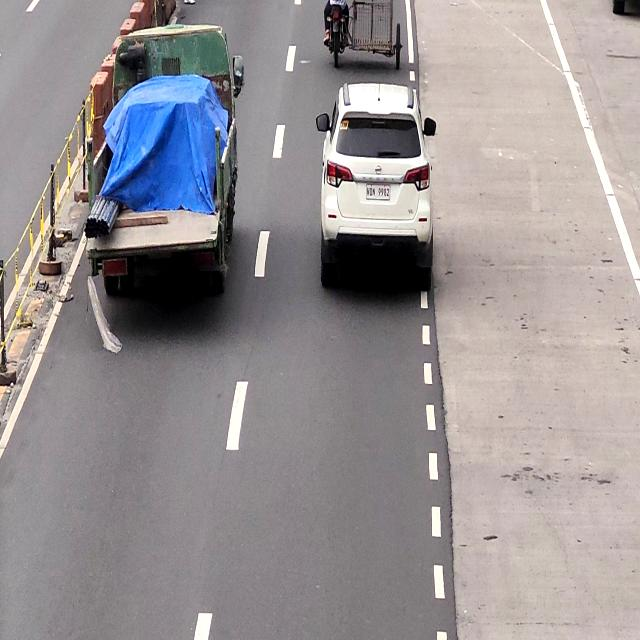Car: (320, 81, 431, 275)
License-Plate: (365, 182, 391, 198)
Tricycle: (328, 0, 404, 69)
Truck: (90, 22, 233, 297)
